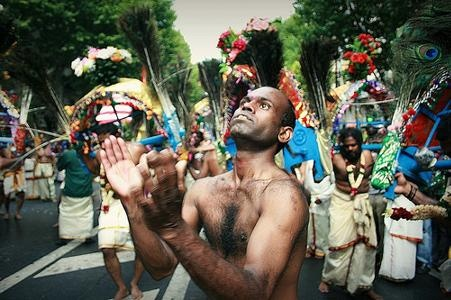person without safety: (182, 82, 309, 300)
